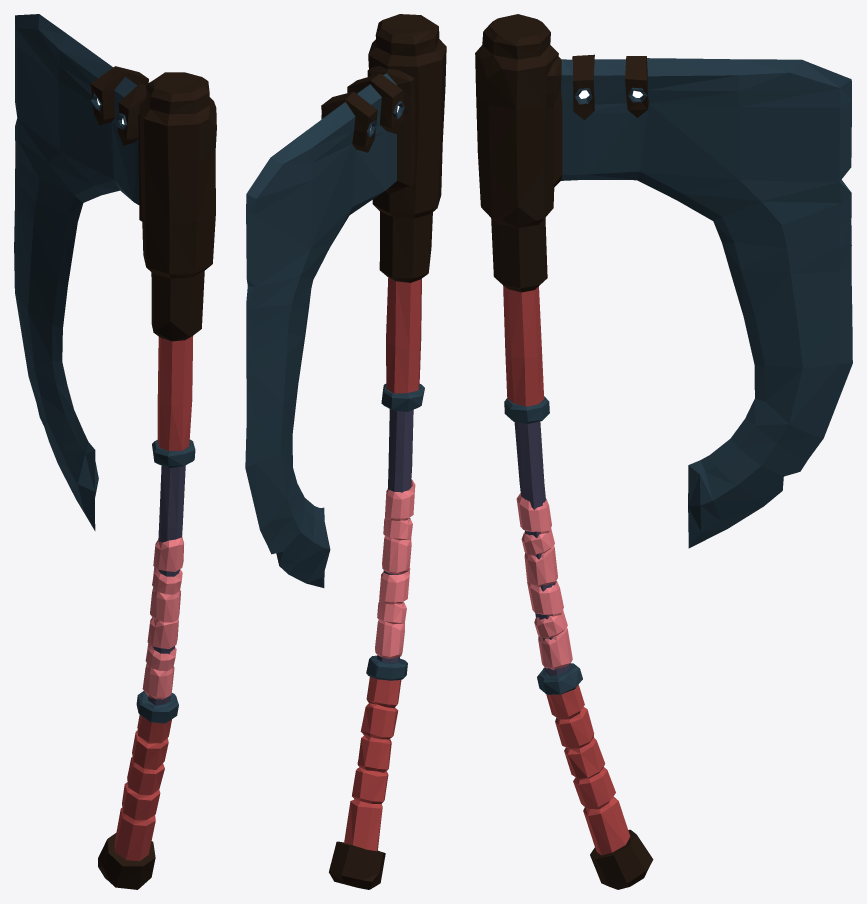
Rendered from SFFA_Weapon_Axe_Gold_003.fbx.
The picture shows the model from 3 angles, left to right: view 1: azimuth 30°, elevation 25°; view 2: azimuth 150°, elevation 25°; view 3: azimuth 270°, elevation 25°; orthographic projection. The views are drawn at different scales.
Visible parts, largest first — view 1: SFFA_Weapon_Axe_Gold_003; view 2: SFFA_Weapon_Axe_Gold_003; view 3: SFFA_Weapon_Axe_Gold_003.
Part boxes in pixels (x1=…): SFFA_Weapon_Axe_Gold_003: x1=14, y1=14, x2=216, y2=889; SFFA_Weapon_Axe_Gold_003: x1=245, y1=14, x2=446, y2=889; SFFA_Weapon_Axe_Gold_003: x1=475, y1=14, x2=852, y2=889.
Size of the model in its own units: 10.25 by 116 by 46.39.
